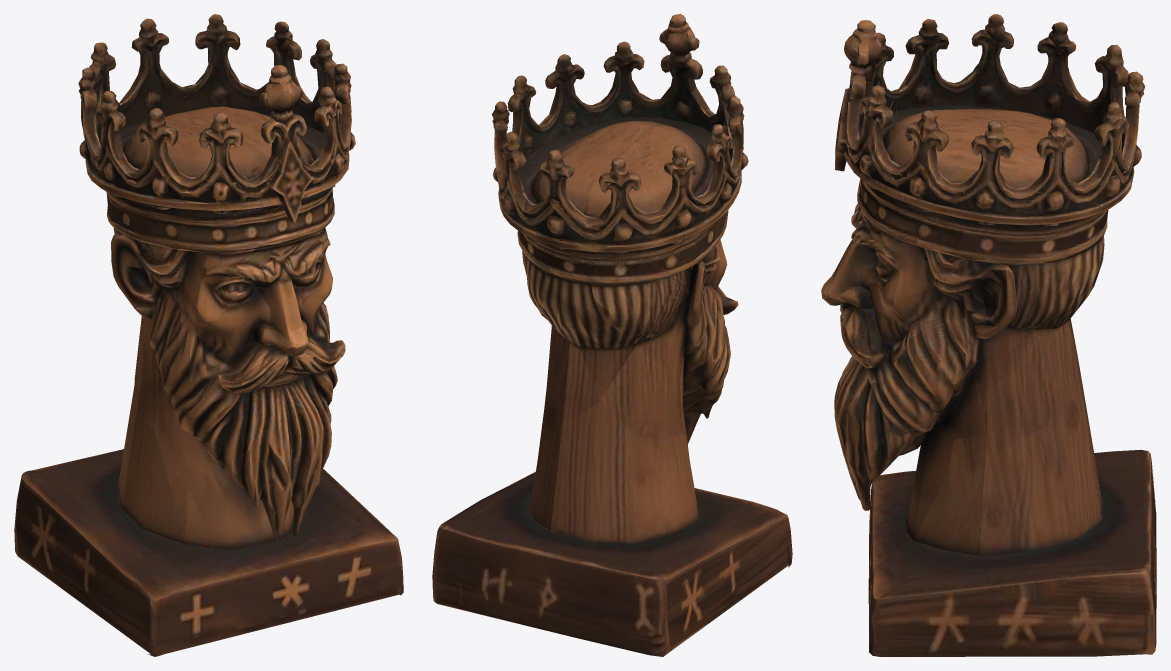
Rendered from piece-king.glb.
The picture shows the model from 3 angles, left to right: view 1: azimuth 30°, elevation 25°; view 2: azimuth 150°, elevation 25°; view 3: azimuth 270°, elevation 25°; orthographic projection. The views are drawn at different scales.
Size of the model in its own units: 0.8967 by 1.9 by 1.
1 material, 1 textured.
